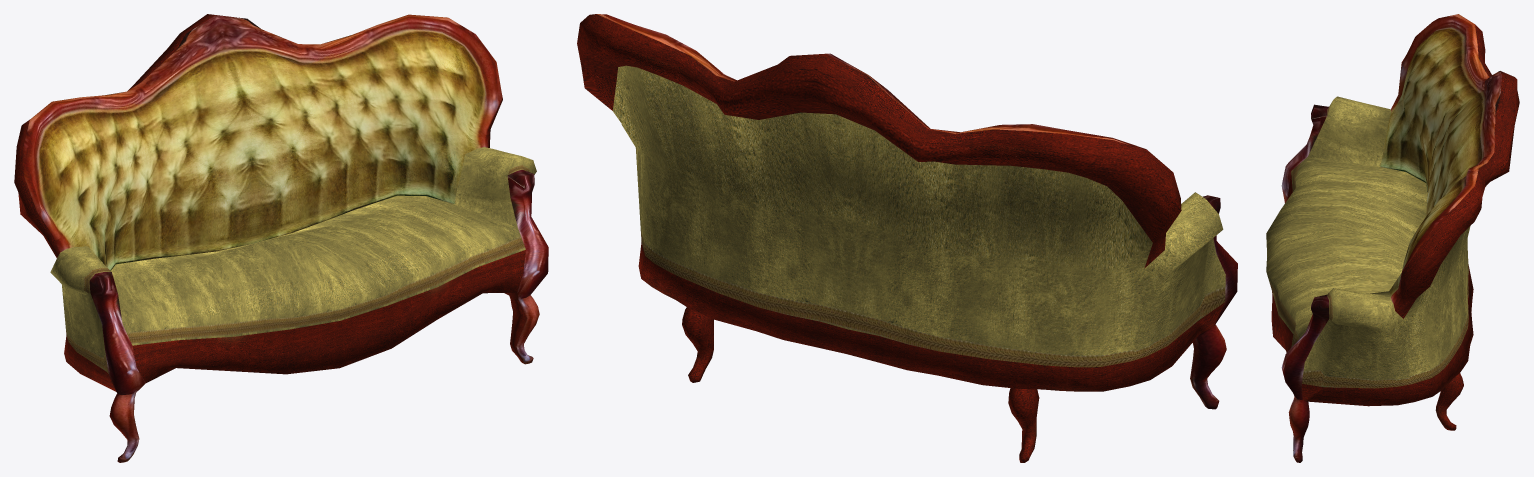
File: Divan_LOD.fbx
The picture shows the model from 3 angles, left to right: view 1: azimuth 30°, elevation 25°; view 2: azimuth 150°, elevation 25°; view 3: azimuth 270°, elevation 25°; orthographic projection. The views are drawn at different scales.
Parts seen in each view (by area): view 1: Divan_LOD0; view 2: Divan_LOD0; view 3: Divan_LOD0.
Boxes of the visible parts, x1,y1,x2,y2 form: Divan_LOD0: (14, 14, 548, 462); Divan_LOD0: (577, 14, 1237, 462); Divan_LOD0: (1266, 14, 1519, 462).
Size of what is drawn, in the model's own units: 223 by 140 by 110.
